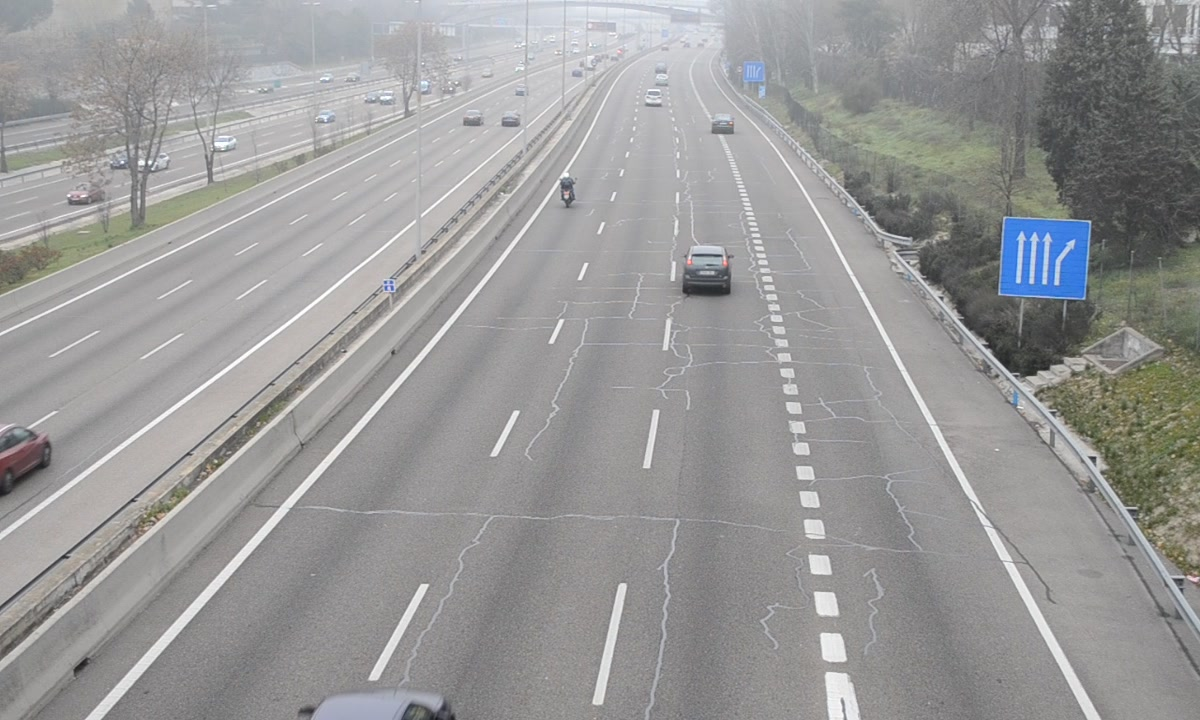car: (681, 245, 732, 297), (711, 114, 733, 135), (646, 89, 662, 108)
motorcycle: (558, 173, 577, 211)
